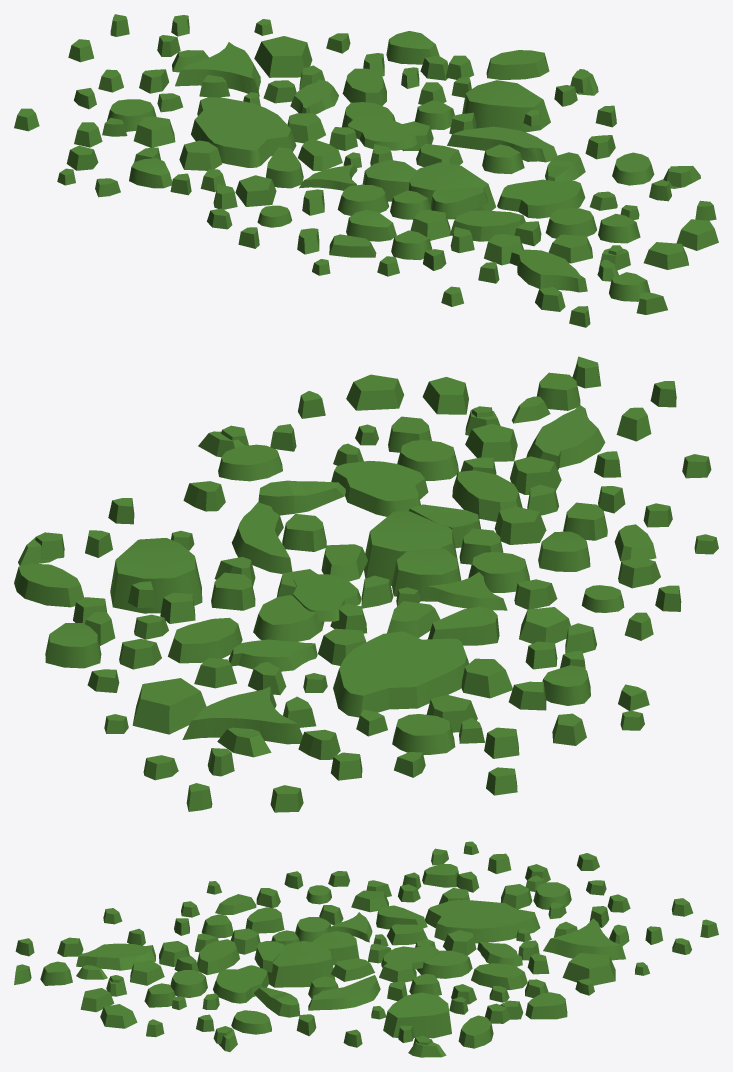
File: grass_layer_crumbs_medium_set_A.fbx
3 views of the same model, one above another, from view 1: azimuth 30°, elevation 25°; view 2: azimuth 150°, elevation 25°; view 3: azimuth 270°, elevation 25° (orthographic). The views are drawn at different scales.
Parts seen in each view (by area): view 1: grass_layer_crumb_big_C3, grass_layer_crumb_small_C4, grass_layer_crumb_big_C4, grass_layer_crumb_big_A2, grass_layer_crumb_medium_A3, grass_layer_crumb_big_B1, grass_layer_crumb_small_C7, grass_layer_crumb_mini_B3, grass_layer_crumb_big_C5, grass_layer_crumb_medium_C1, grass_layer_crumb_medium_C2, grass_layer_crumb_small_C3 (+47 smaller); view 2: grass_layer_crumb_big_C3, grass_layer_crumb_small_C4, grass_layer_crumb_big_C4, grass_layer_crumb_big_A2, grass_layer_crumb_small_C7, grass_layer_crumb_mini_B3, grass_layer_crumb_medium_A3, grass_layer_crumb_big_B1, grass_layer_crumb_medium_C3, grass_layer_crumb_medium_C1, grass_layer_crumb_small_C3, grass_layer_crumb_small_D3 (+55 smaller); view 3: grass_layer_crumb_big_C3, grass_layer_crumb_small_C4, grass_layer_crumb_small_C7, grass_layer_crumb_big_A2, grass_layer_crumb_medium_A3, grass_layer_crumb_big_C4, grass_layer_crumb_big_B1, grass_layer_crumb_mini_B3, grass_layer_crumb_medium_C3, grass_layer_crumb_medium_C1, grass_layer_crumb_small_D3, grass_layer_crumb_small_C5 (+39 smaller).
Part boxes in pixels (left/top/right/bottom): grass_layer_crumb_big_C3: left=191, top=97, right=296, bottom=167; grass_layer_crumb_small_C4: left=462, top=80, right=550, bottom=132; grass_layer_crumb_big_C4: left=497, top=179, right=585, bottom=218; grass_layer_crumb_big_A2: left=175, top=42, right=260, bottom=96; grass_layer_crumb_medium_A3: left=509, top=249, right=587, bottom=292; grass_layer_crumb_big_B1: left=447, top=126, right=557, bottom=162; grass_layer_crumb_small_C7: left=408, top=162, right=495, bottom=219; grass_layer_crumb_mini_B3: left=254, top=36, right=312, bottom=77; grass_layer_crumb_big_C5: left=346, top=117, right=420, bottom=150; grass_layer_crumb_medium_C1: left=450, top=210, right=525, bottom=241; grass_layer_crumb_medium_C2: left=486, top=50, right=549, bottom=79; grass_layer_crumb_small_C3: left=362, top=159, right=417, bottom=201; grass_layer_crumb_big_C3: left=333, top=631, right=468, bottom=717; grass_layer_crumb_small_C4: left=110, top=538, right=202, bottom=613; grass_layer_crumb_big_C4: left=331, top=460, right=428, bottom=516; grass_layer_crumb_big_A2: left=182, top=686, right=302, bottom=744; grass_layer_crumb_small_C7: left=364, top=511, right=457, bottom=585; grass_layer_crumb_mini_B3: left=132, top=678, right=206, bottom=734; grass_layer_crumb_medium_A3: left=526, top=405, right=605, bottom=469; grass_layer_crumb_big_B1: left=231, top=502, right=292, bottom=573; grass_layer_crumb_medium_C3: left=168, top=617, right=242, bottom=663; grass_layer_crumb_medium_C1: left=452, top=470, right=522, bottom=521; grass_layer_crumb_small_C3: left=391, top=547, right=461, bottom=601; grass_layer_crumb_small_D3: left=253, top=595, right=324, bottom=641; grass_layer_crumb_big_C3: left=425, top=899, right=540, bottom=943; grass_layer_crumb_small_C4: left=383, top=992, right=451, bottom=1038; grass_layer_crumb_small_C7: left=267, top=941, right=335, bottom=987; grass_layer_crumb_big_A2: left=543, top=918, right=625, bottom=960; grass_layer_crumb_medium_A3: left=76, top=943, right=155, bottom=970; grass_layer_crumb_big_C4: left=213, top=965, right=269, bottom=1003; grass_layer_crumb_big_B1: left=308, top=975, right=380, bottom=1010; grass_layer_crumb_mini_B3: left=562, top=953, right=615, bottom=985; grass_layer_crumb_medium_C3: left=471, top=963, right=527, bottom=989; grass_layer_crumb_medium_C1: left=197, top=939, right=239, bottom=974; grass_layer_crumb_small_D3: left=416, top=950, right=472, bottom=978; grass_layer_crumb_small_C5: left=525, top=992, right=567, bottom=1019.
Size of the model in its own units: 594 by 32.38 by 867.
